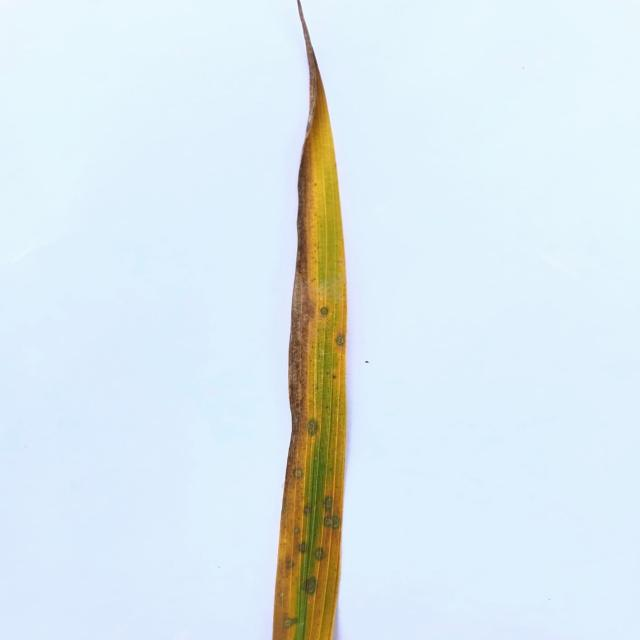tungro: (271, 0, 350, 640)
